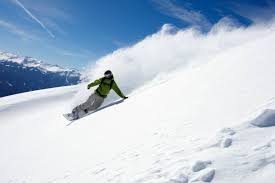snowboard: (61, 112, 86, 122)
